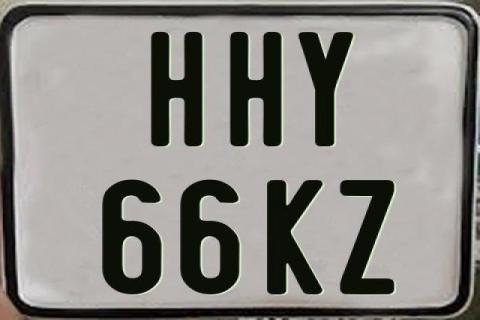0: (178, 180, 242, 298), (101, 178, 160, 296)
H: (228, 32, 285, 149), (150, 32, 204, 151)
K: (267, 179, 329, 296)
Y: (299, 30, 356, 148)
Z: (338, 179, 395, 296)
